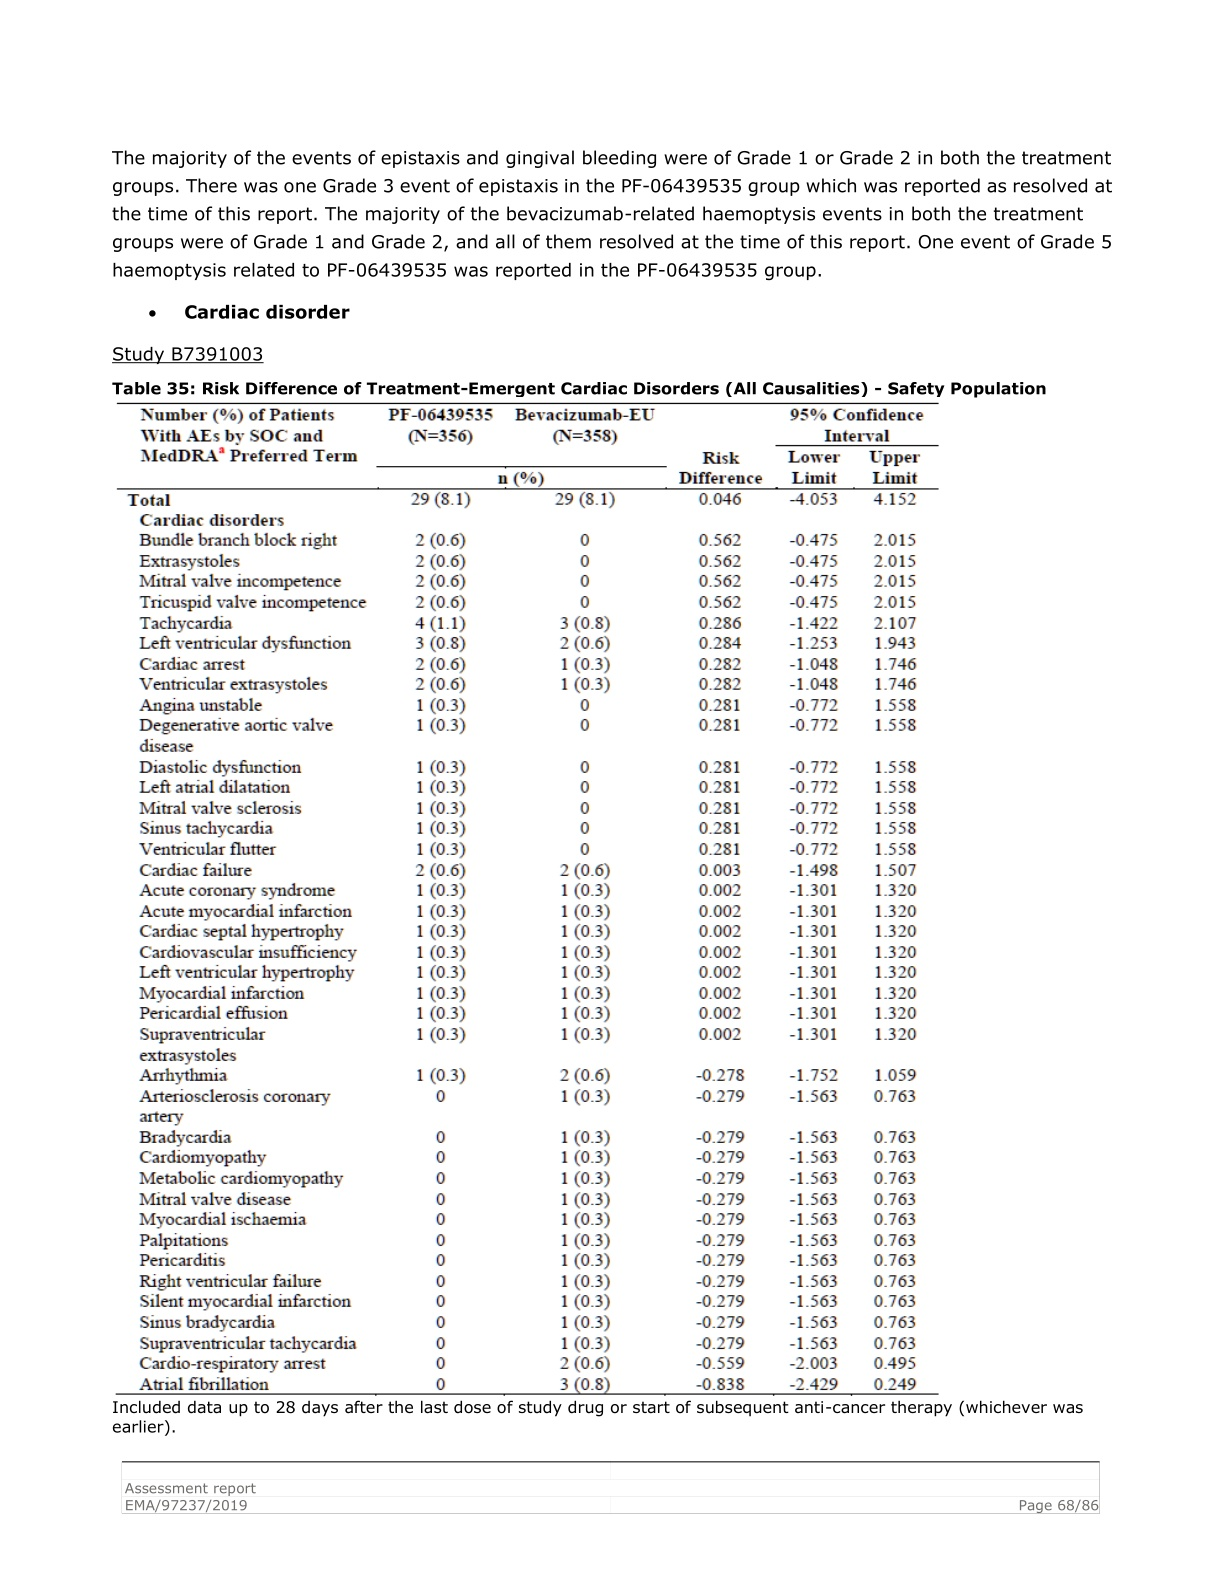partial_lined_merged_cells: (114, 402, 939, 1396)
